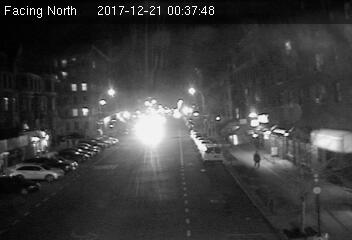pedestrian: (251, 148, 261, 169)
truck: (203, 145, 222, 164)
